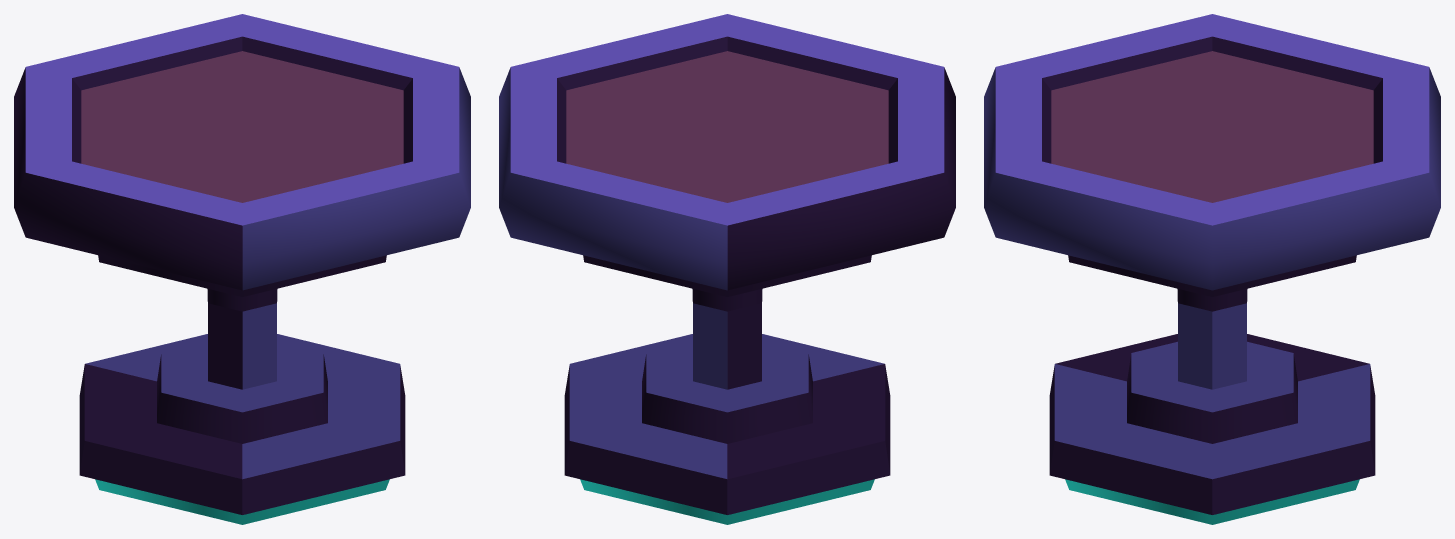
Rendered from mesa.FBX.
3 renders of one model, left to right at view 1: azimuth 30°, elevation 25°; view 2: azimuth 150°, elevation 25°; view 3: azimuth 270°, elevation 25°, orthographic.
Parts seen in each view (by area): view 1: Cylinder002; view 2: Cylinder002; view 3: Cylinder002.
Boxes of the visible parts, bbox=[...] form: Cylinder002: bbox=[14, 14, 470, 524]; Cylinder002: bbox=[499, 14, 955, 524]; Cylinder002: bbox=[984, 14, 1440, 524].
Bounding box in the file's own units: 35.92 × 25.19 × 31.1.
